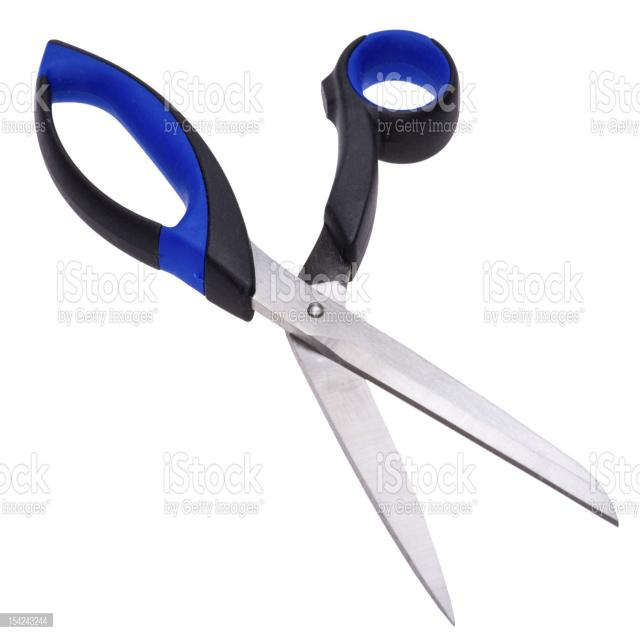scissor: (26, 21, 624, 628)
